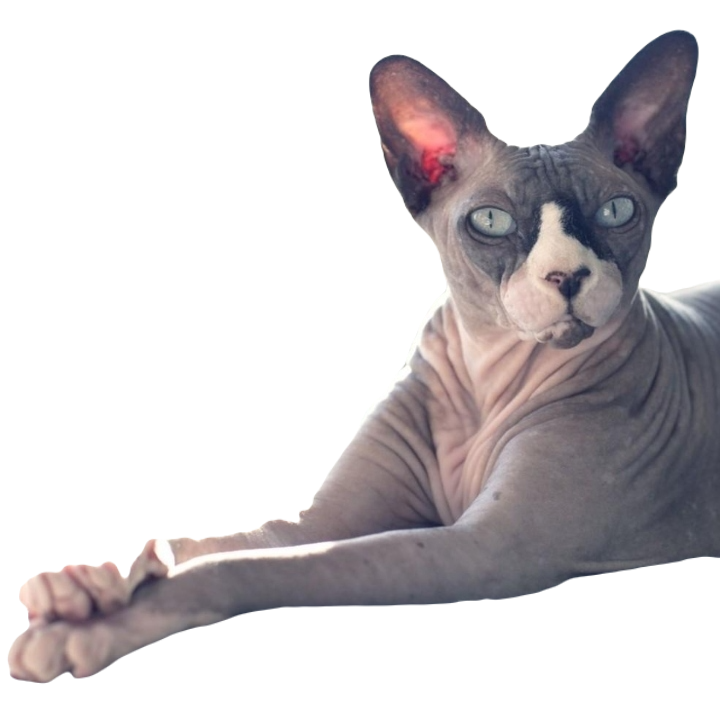Cat: (9, 21, 719, 680)
